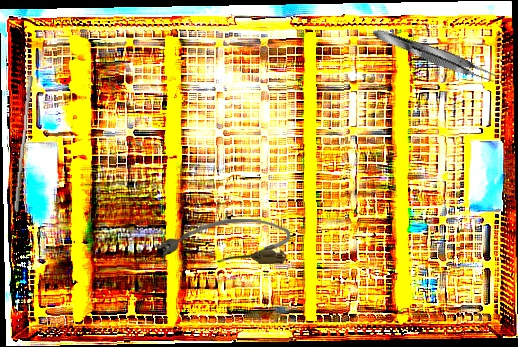Cannula: (157, 219, 290, 264)
Pusher: (13, 74, 34, 214)
Tissue Forceps: (370, 23, 498, 87)
